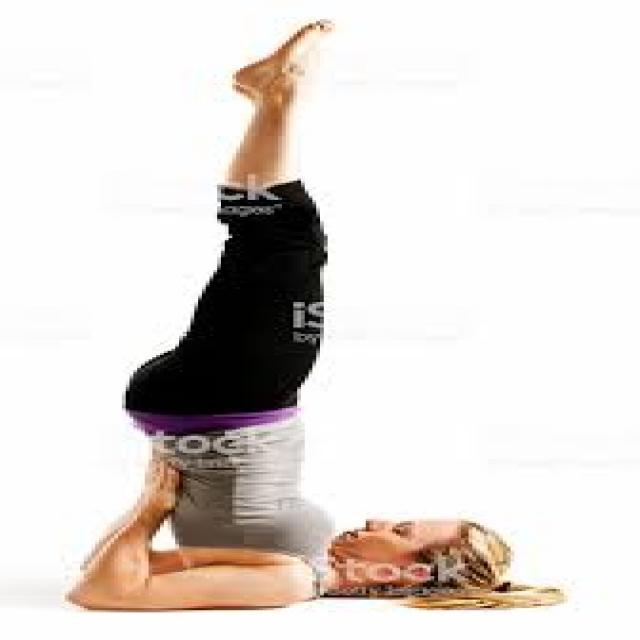yoga-pose shoulderstand: (68, 14, 520, 611)
